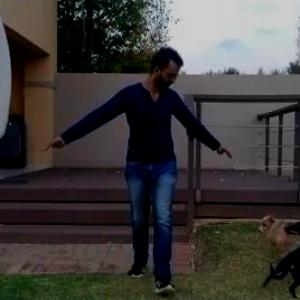land: (21, 42, 256, 280)
